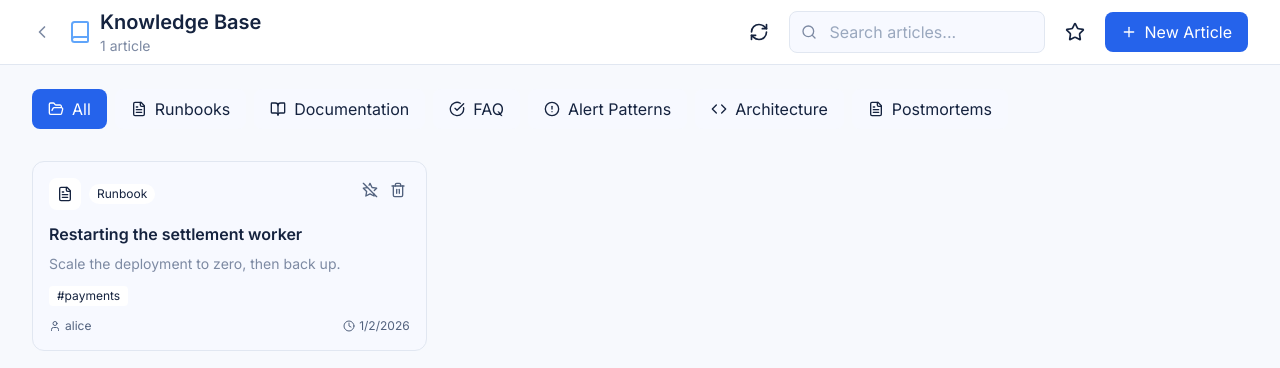
it: KnowledgeBase › removes the row only when the delete actually succeeded
Check: the heading "Restarting the settlement worker" is shown, box [49,224,302,244]
Click the button named "Delete Restarting the settlement worker" at (398, 190), box [386,178,410,202]
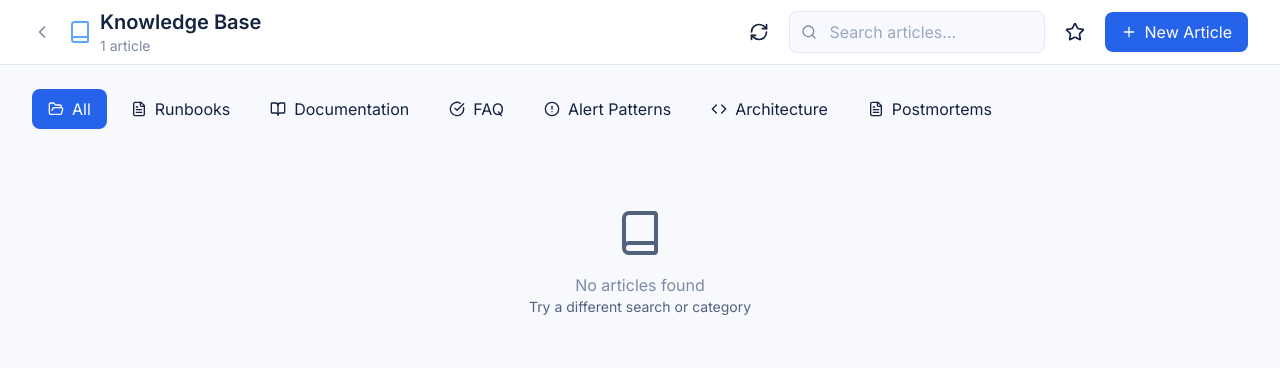
Check: the heading "Restarting the settlement worker" is gone
